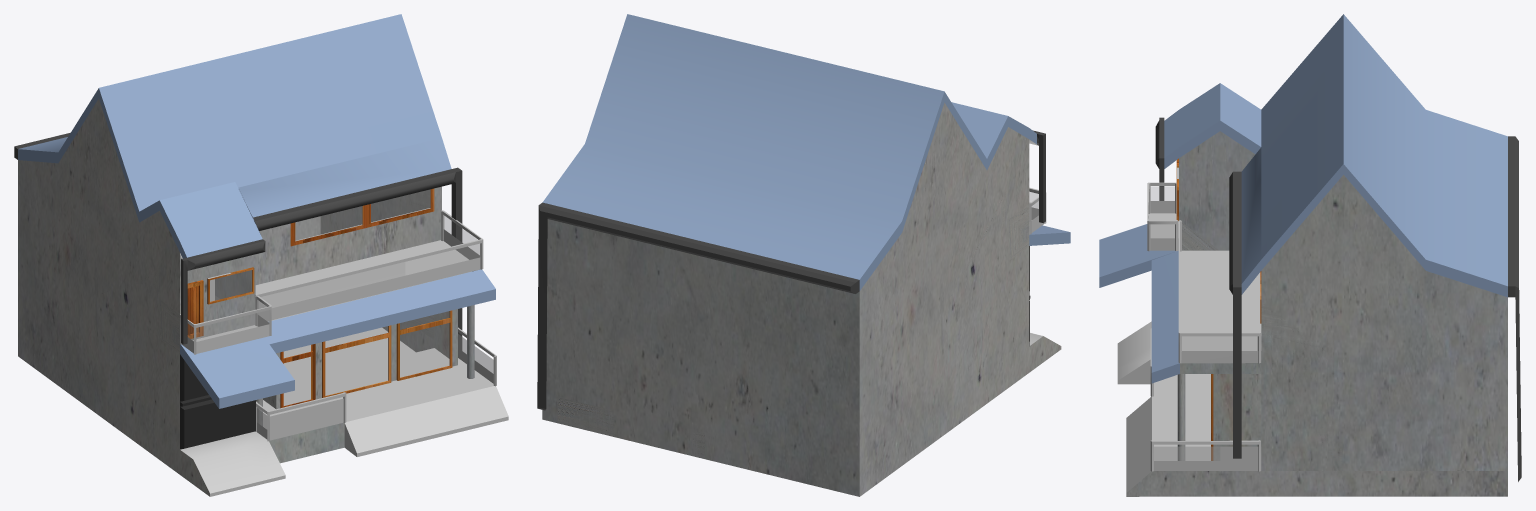
The model's file is House.obj.
The picture shows the model from 3 angles, left to right: view 1: azimuth 30°, elevation 25°; view 2: azimuth 150°, elevation 25°; view 3: azimuth 270°, elevation 25°; orthographic projection. The views are drawn at different scales.
Visible parts, largest first — view 1: Mesh, Mesh (6), Mesh (4), Mesh (7), Mesh (5), Mesh (3); view 2: Mesh, Mesh (6); view 3: Mesh, Mesh (6), Mesh (7), Mesh (3).
Boxes of the visible parts, x1,y1,x2,y2 form: Mesh: (14,98,508,496); Mesh (6): (18,14,495,408); Mesh (4): (180,354,255,449); Mesh (7): (180,210,496,441); Mesh (5): (187,280,203,338); Mesh (3): (256,305,474,426); Mesh: (537,102,1061,496); Mesh (6): (542,14,1070,290); Mesh: (1117,117,1521,496); Mesh (6): (1099,14,1507,383); Mesh (7): (1147,182,1260,471); Mesh (3): (1177,374,1185,460).
Size of the model in its own units: 1.5 by 1.5 by 1.72.
